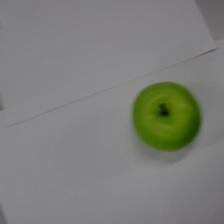green: (132, 82, 201, 151)
